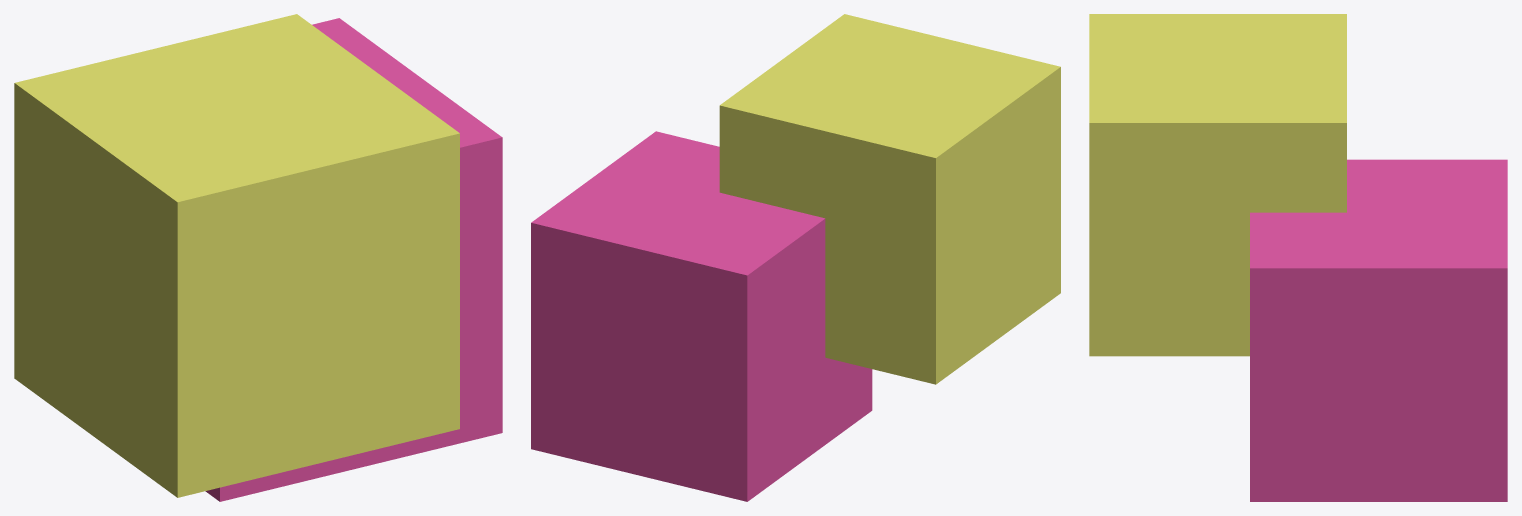
The picture shows the model from 3 angles, left to right: view 1: azimuth 30°, elevation 25°; view 2: azimuth 150°, elevation 25°; view 3: azimuth 270°, elevation 25°; orthographic projection. The views are drawn at different scales.
Visible parts, largest first — view 1: Cube.001, Cube; view 2: Cube, Cube.001; view 3: Cube, Cube.001.
Part boxes in pixels (x1,y1,x2,y2): Cube.001: (14,14,459,497); Cube: (205,18,502,501); Cube: (531,131,872,501); Cube.001: (719,14,1060,384); Cube: (1250,159,1507,501); Cube.001: (1089,14,1346,356).
Bounding box in the file's own units: 3.02 × 2.77 × 3.25.
